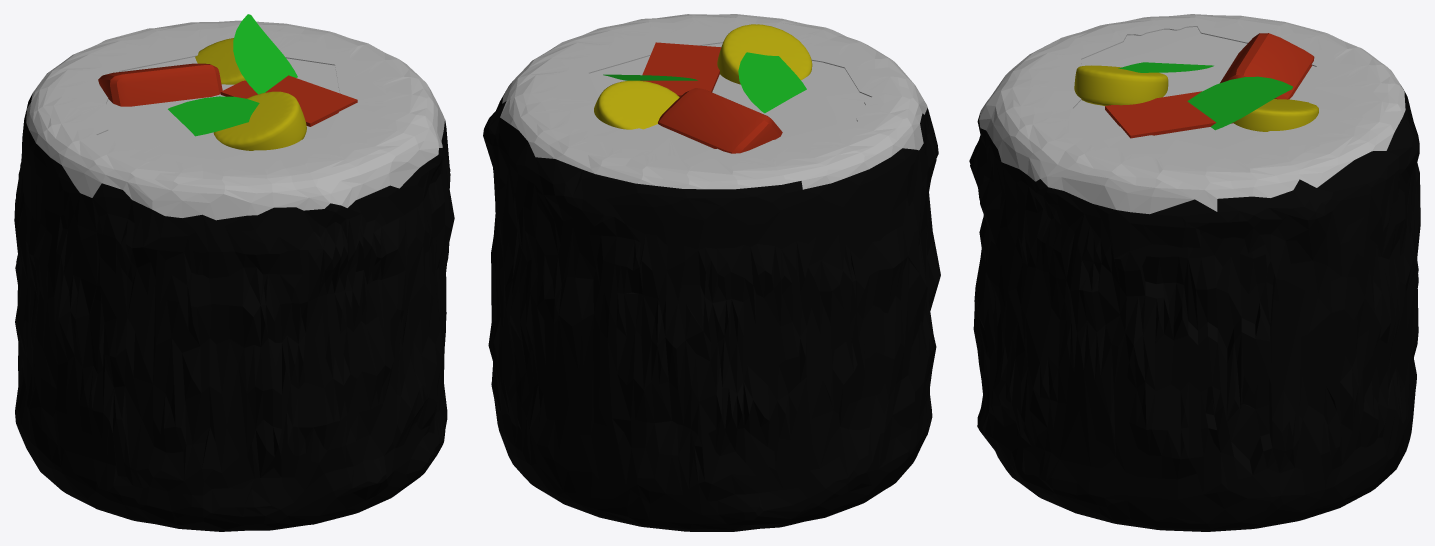
File: Piece of sushi.obj
3 renders of one model, left to right at view 1: azimuth 30°, elevation 25°; view 2: azimuth 150°, elevation 25°; view 3: azimuth 270°, elevation 25°, orthographic.
Parts seen in each view (by area): view 1: Cylinder005, Box20181, Cylinder004, Plane005, Plane006, Box20182, Cylinder006; view 2: Cylinder005, Box20181, Cylinder004, Cylinder006, Box20182, Plane006; view 3: Cylinder005, Box20181, Cylinder004, Box20182, Plane005, Cylinder006, Plane006.
Boxes of the visible parts, box(x1,y1,x2,y2) form: Cylinder005: box(14, 20, 454, 531); Box20181: box(98, 63, 222, 106); Cylinder004: box(213, 91, 306, 150); Plane005: box(233, 14, 297, 94); Plane006: box(168, 96, 259, 136); Box20182: box(220, 75, 357, 126); Cylinder006: box(195, 38, 245, 84); Cylinder005: box(483, 14, 940, 531); Box20181: box(658, 88, 782, 153); Cylinder004: box(717, 24, 812, 84); Cylinder006: box(594, 80, 679, 129); Box20182: box(640, 42, 721, 96); Plane006: box(738, 52, 806, 113); Cylinder005: box(969, 14, 1420, 531); Box20181: box(1220, 33, 1314, 99); Cylinder004: box(1074, 65, 1168, 105); Box20182: box(1105, 91, 1233, 138); Plane005: box(1187, 76, 1292, 130); Cylinder006: box(1233, 99, 1318, 131); Plane006: box(1118, 62, 1213, 72).
Size of the model in its own units: 4437 by 4295 by 4437.
